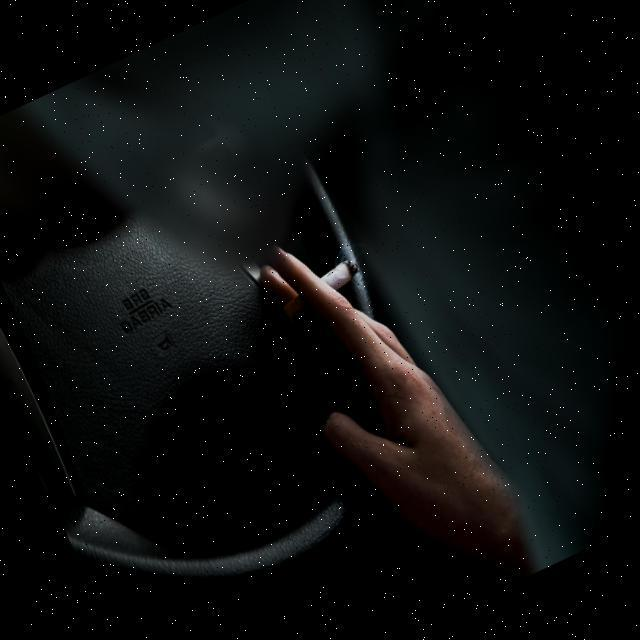cigarette: (304, 246, 366, 300)
